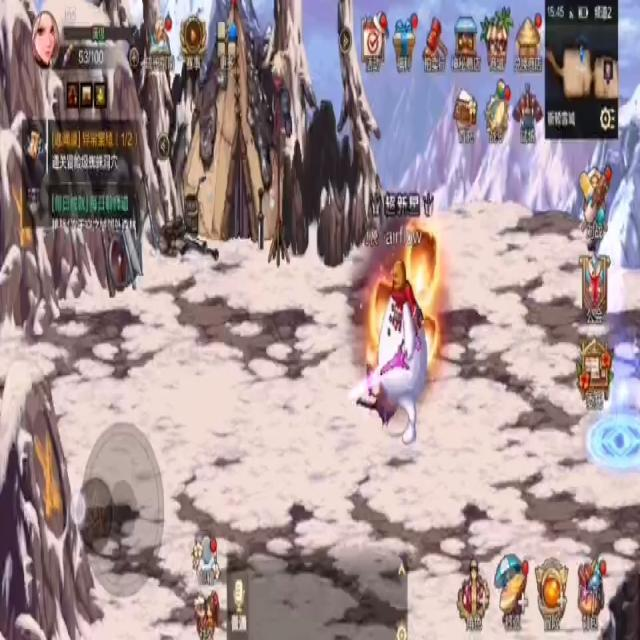player: (373, 247, 428, 455)
